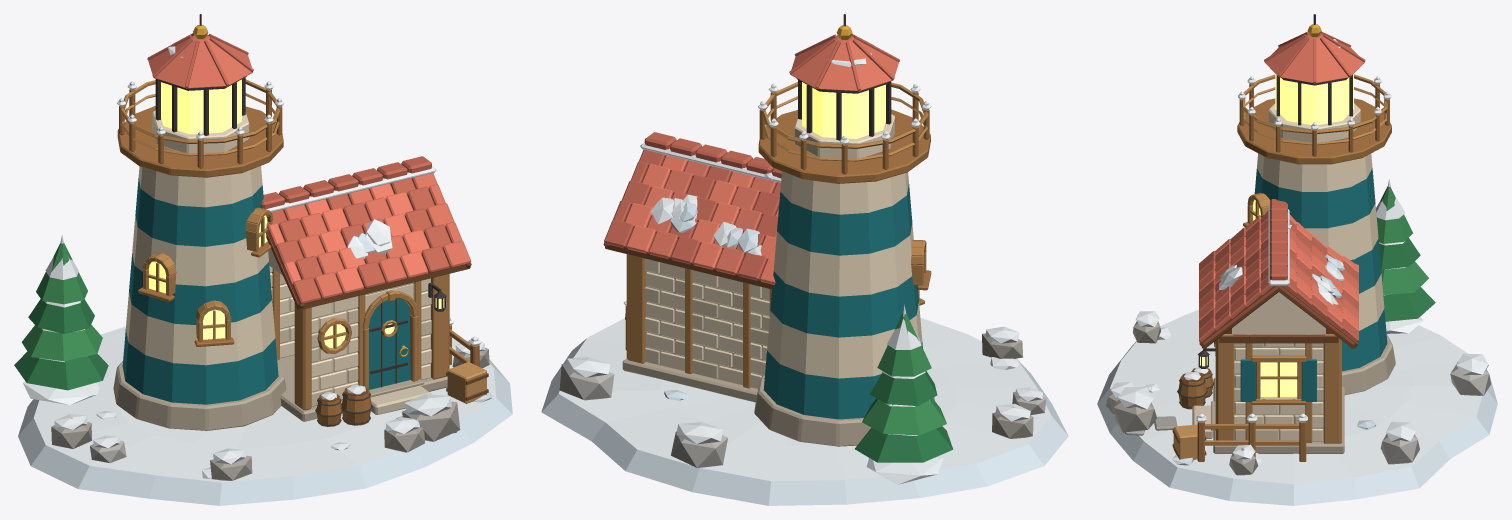
The model's file is lighthouse_loft_exterior.glb.
3 views of the same model, side by side, from view 1: azimuth 30°, elevation 25°; view 2: azimuth 150°, elevation 25°; view 3: azimuth 270°, elevation 25° (orthographic). The views are drawn at different scales.
Parts seen in each view (by area): view 1: lighthouse_loft_exterior, lighthouse_loft_exterior_roof, part_crown, part_door_leaf; view 2: lighthouse_loft_exterior, lighthouse_loft_exterior_roof, part_crown; view 3: lighthouse_loft_exterior, lighthouse_loft_exterior_roof, part_crown.
Boxes of the visible parts, x1=… form: lighthouse_loft_exterior: x1=18, y1=79, x2=512, y2=505; lighthouse_loft_exterior_roof: x1=147, y1=14, x2=471, y2=310; part_crown: x1=14, y1=235, x2=108, y2=390; part_door_leaf: x1=368, y1=298, x2=410, y2=389; lighthouse_loft_exterior: x1=541, y1=82, x2=1068, y2=505; lighthouse_loft_exterior_roof: x1=603, y1=14, x2=899, y2=289; part_crown: x1=855, y1=304, x2=953, y2=462; lighthouse_loft_exterior: x1=1097, y1=74, x2=1497, y2=505; lighthouse_loft_exterior_roof: x1=1199, y1=14, x2=1365, y2=348; part_crown: x1=1376, y1=179, x2=1435, y2=321.
Bounding box in the file's own units: 8.13 × 6.81 × 6.72.
